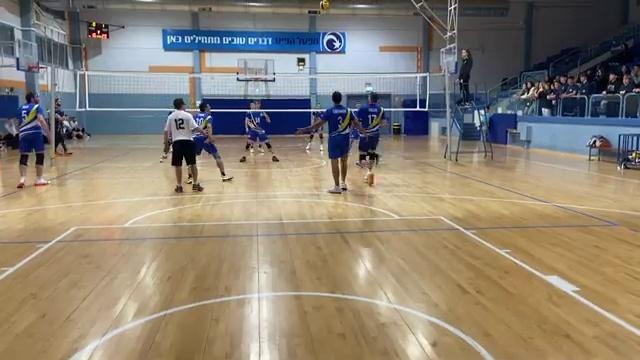ball: (314, 1, 333, 12)
